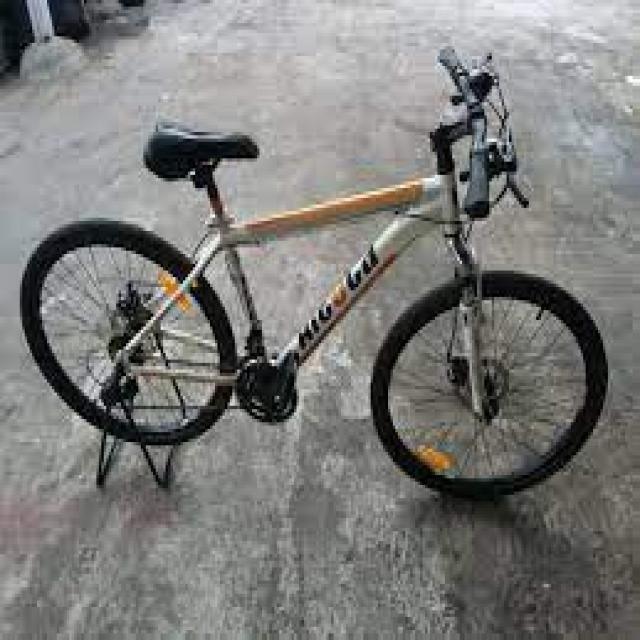bicycle: (24, 43, 601, 496)
